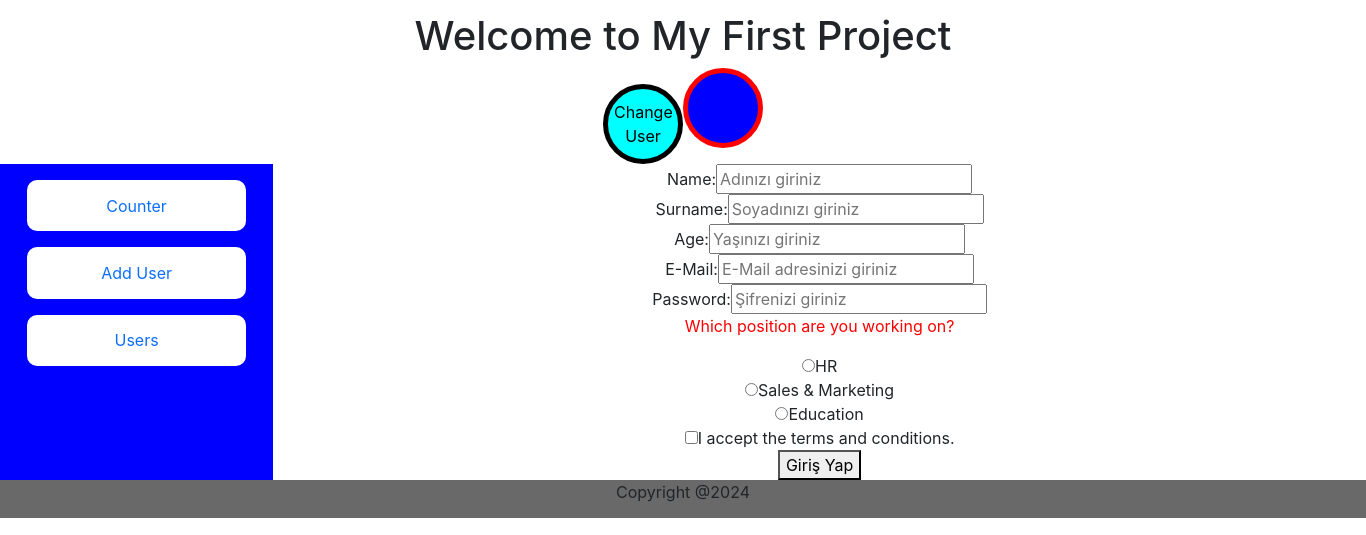
Test: Counter Page Testleri › Increase Testleri › Should increase the counter by 1
Click the link with test id "counter-page" at coordinates (137, 206), box [27,180,246,231]
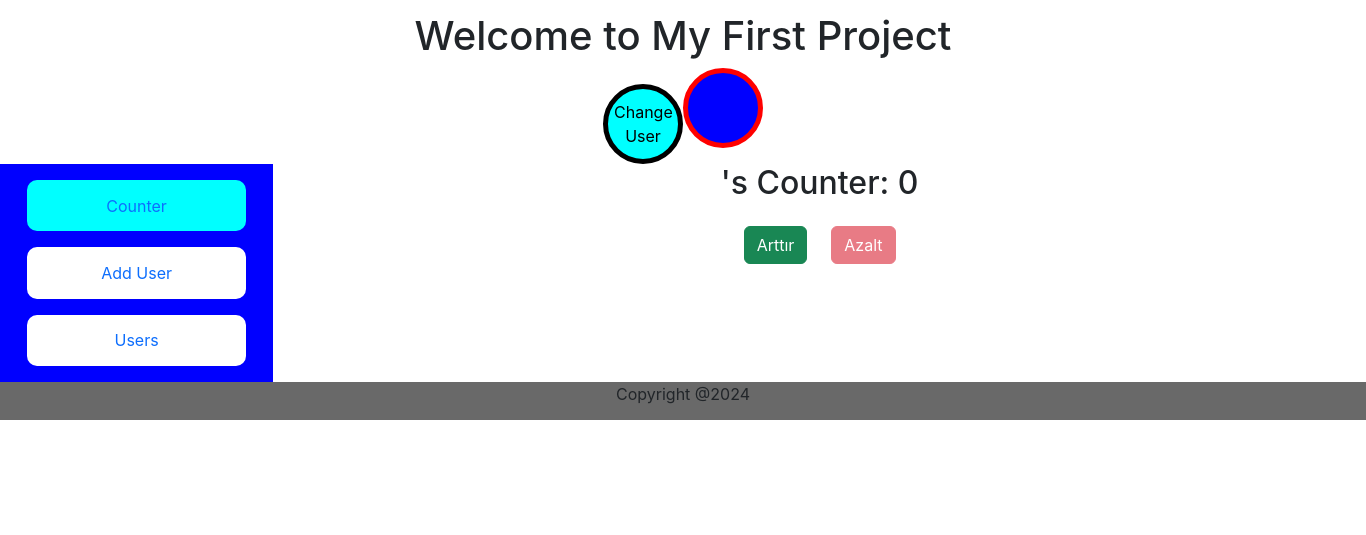
Click the button with test id "increase" at coordinates (776, 245), box [744,226,808,264]
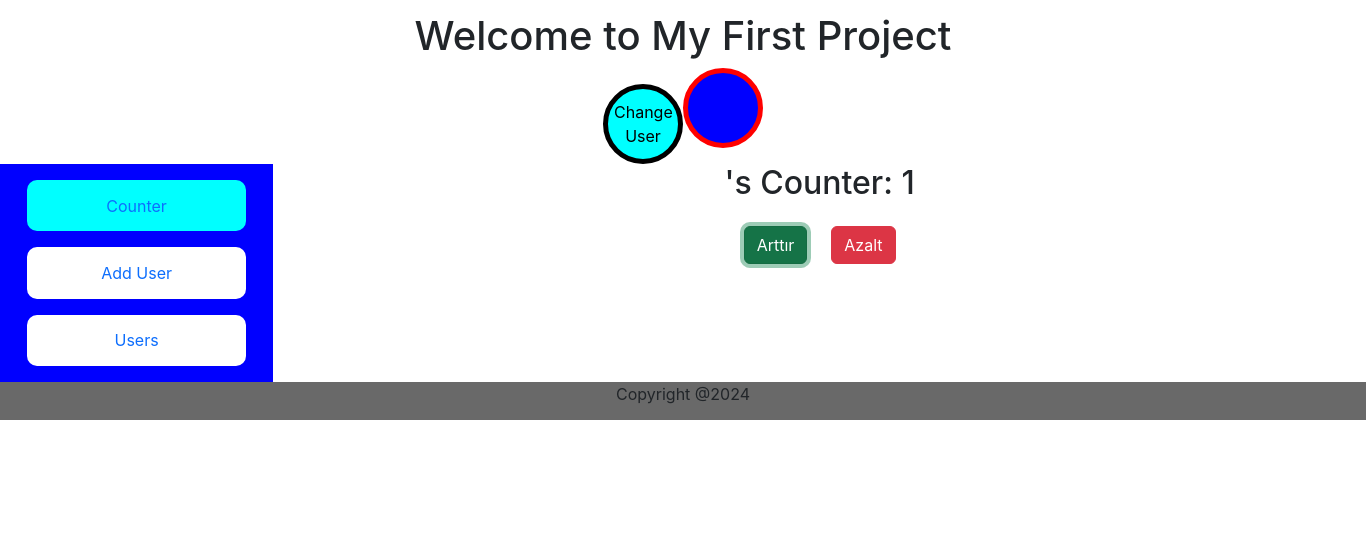
Expected: the heading "'s Counter: 1" is shown, [724,163,915,202]
